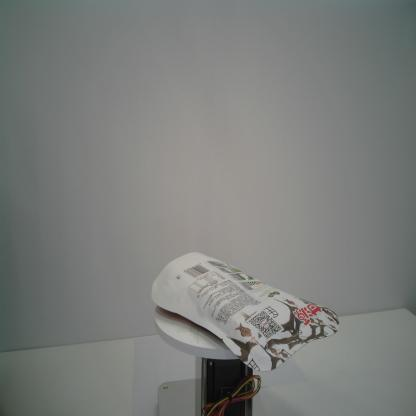Dried Fruit: (150, 251, 341, 372)
